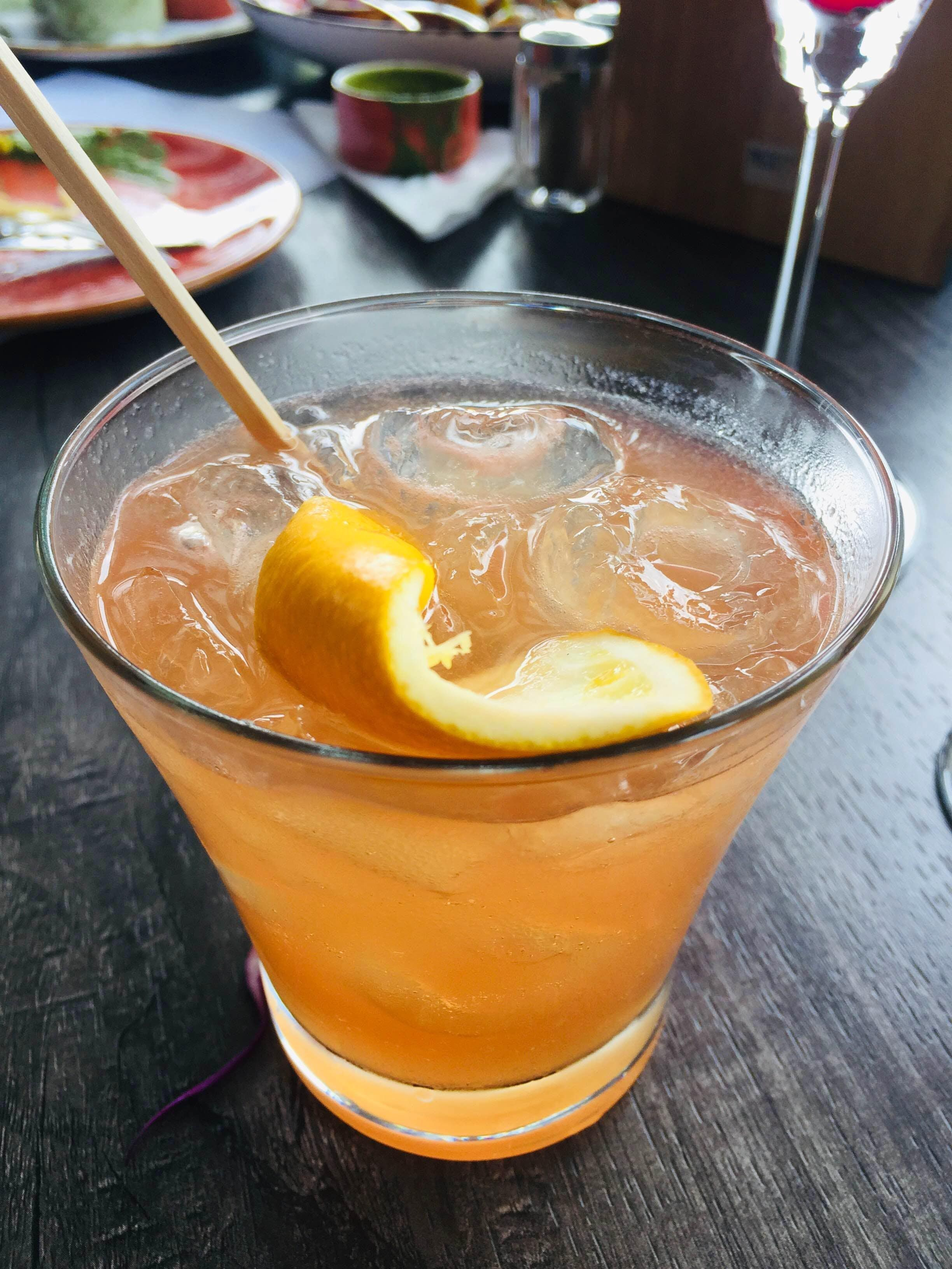glass-normal: (33, 282, 912, 1164)
